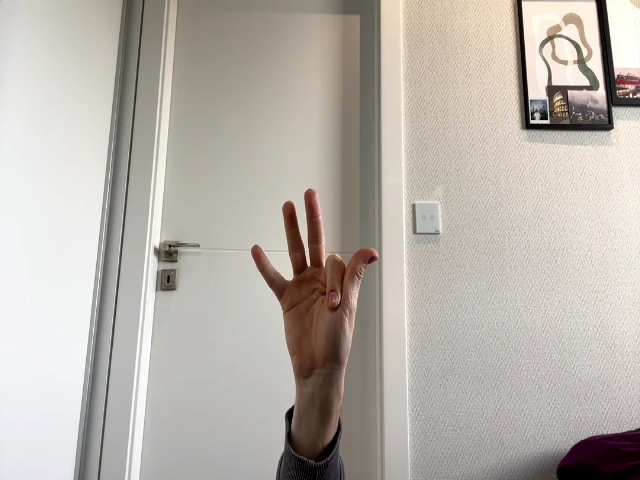F: (251, 189, 378, 367)
